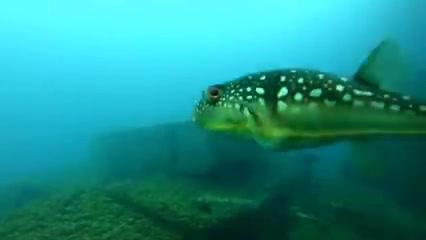hugu: (190, 48, 426, 162)
